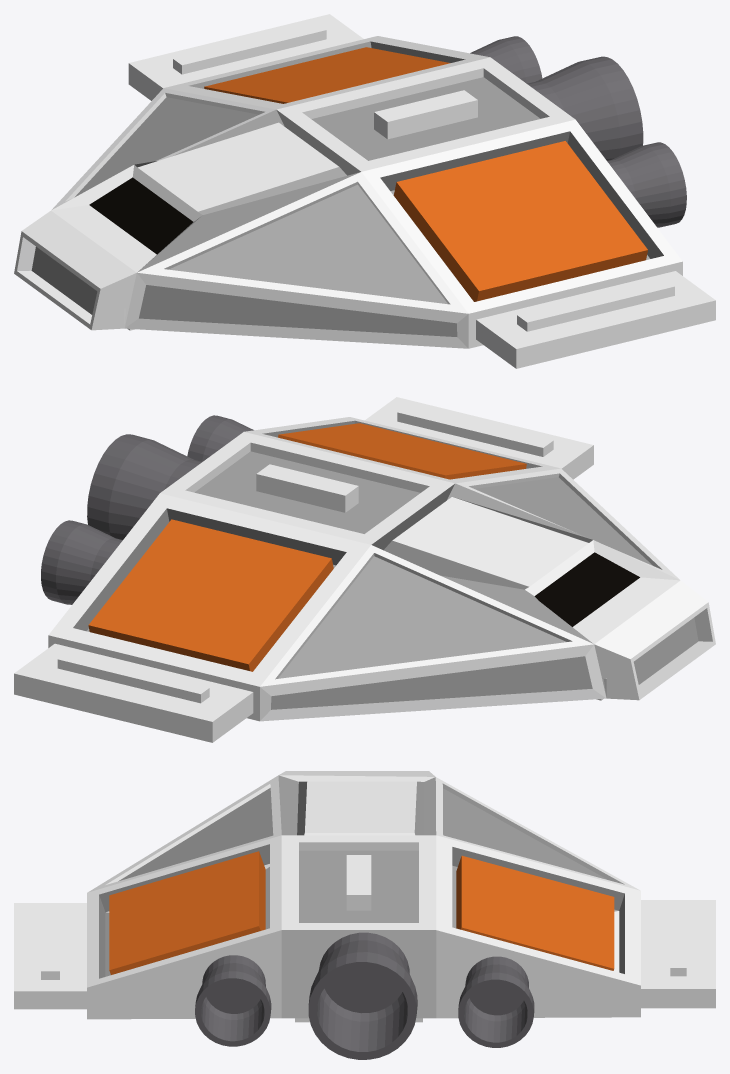
Rendered from spaceship.gltf.
3 renders of one model, top to bottom at view 1: azimuth 30°, elevation 25°; view 2: azimuth 150°, elevation 25°; view 3: azimuth 270°, elevation 25°, orthographic. The views are drawn at different scales.
Visible parts, largest first — view 1: Plane, Circle, Circle.005, Circle.004; view 2: Plane, Circle, Circle.004, Circle.005; view 3: Plane, Circle, Circle.004, Circle.005.
Boxes of the visible parts, x1,y1,x2,y2 form: Plane: (14, 14, 715, 368); Circle: (527, 56, 643, 160); Circle.005: (607, 142, 686, 227); Circle.004: (470, 36, 542, 83); Plane: (14, 397, 715, 742); Circle: (87, 434, 201, 539); Circle.004: (41, 520, 122, 604); Circle.005: (187, 415, 253, 461); Plane: (14, 771, 715, 1022); Circle: (308, 932, 417, 1059); Circle.004: (458, 956, 534, 1047); Circle.005: (195, 955, 271, 1046).
Size of the model in its own units: 2.65 by 0.5257 by 3.14.
